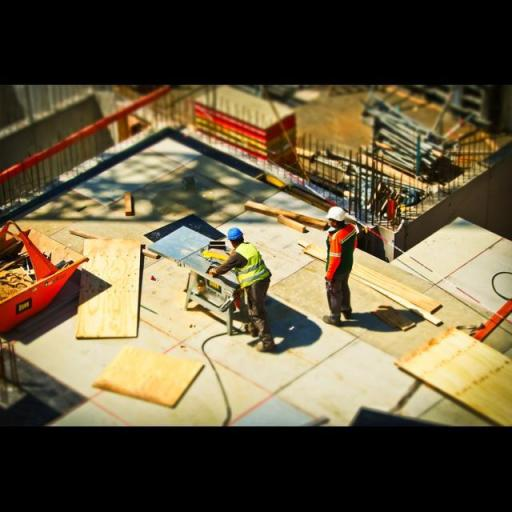Person: (215, 226, 280, 350), (306, 200, 371, 324)
helmet: (321, 203, 349, 221), (226, 228, 245, 242)
vest: (320, 223, 358, 288), (235, 241, 272, 289)
